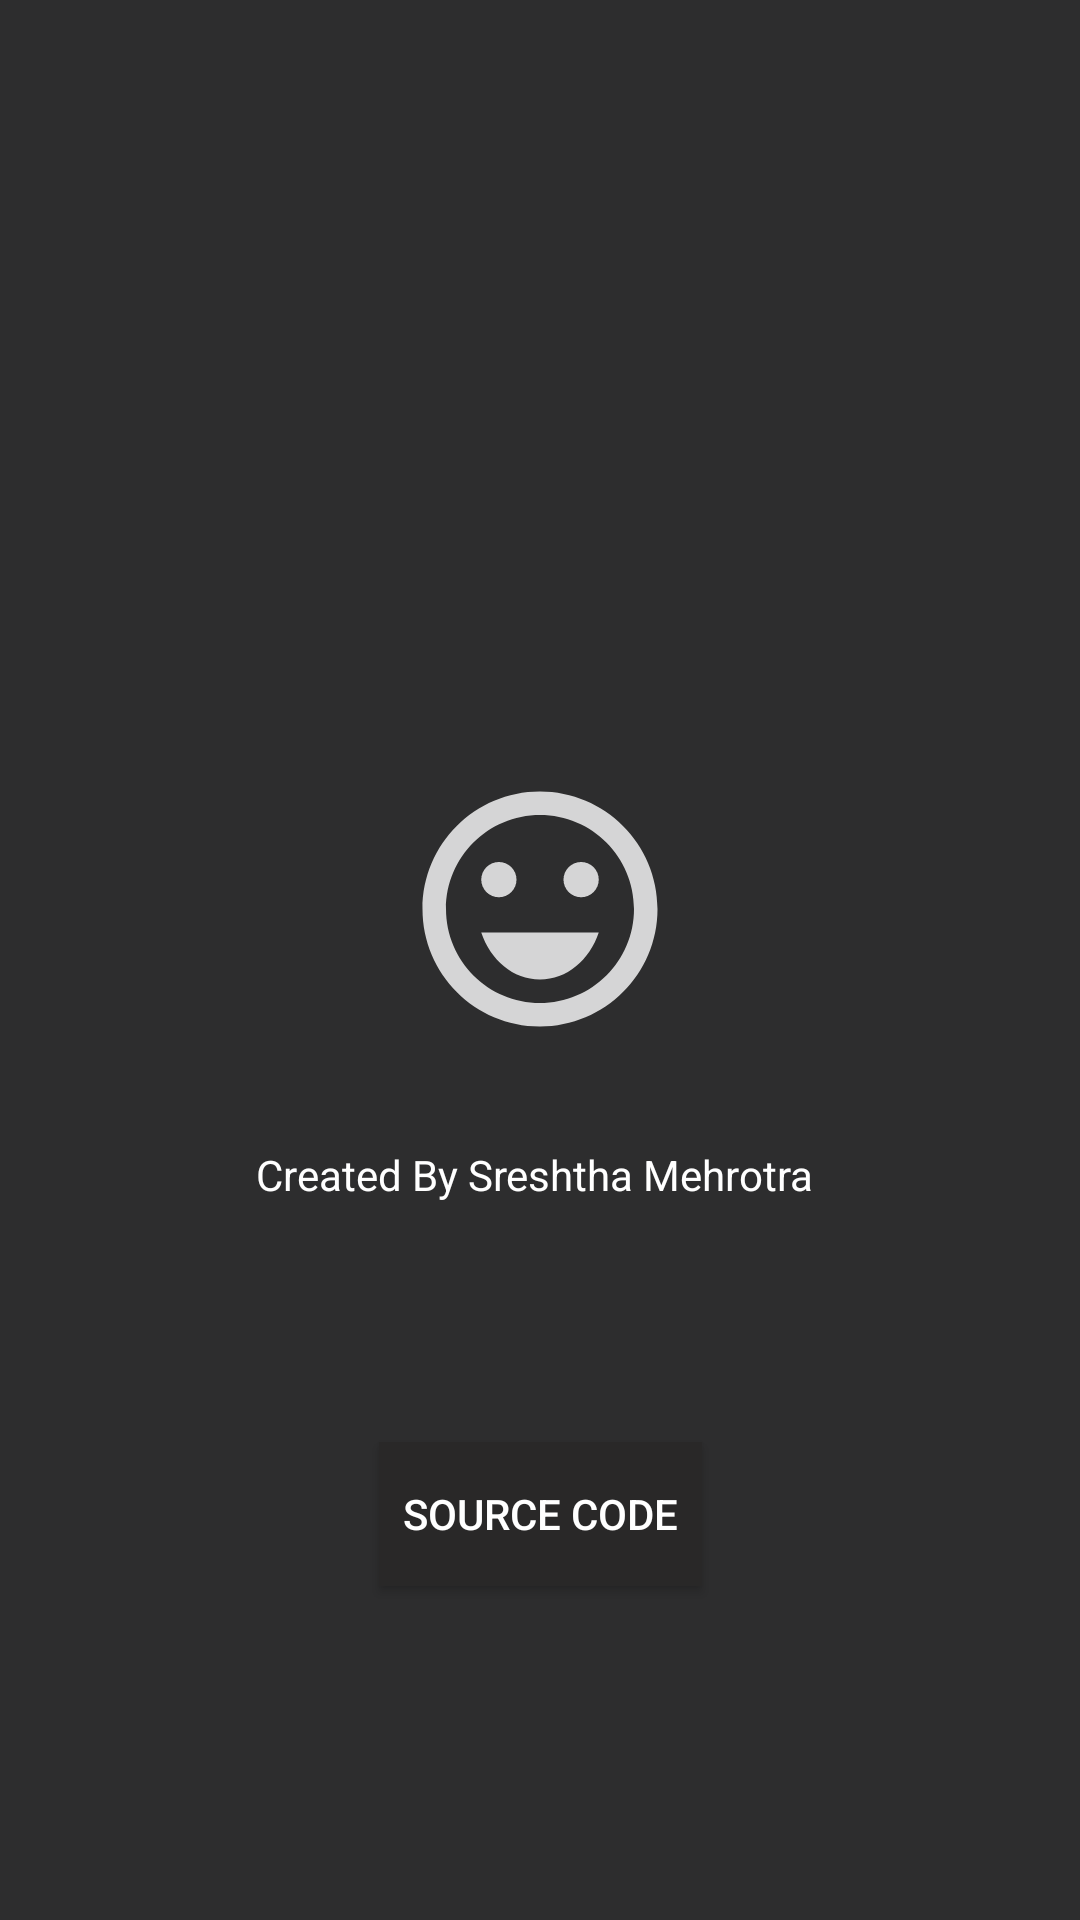

Where to tap for icons on this 1080px×1920px app screen, as point (x, y):
smile: point (540, 909)
